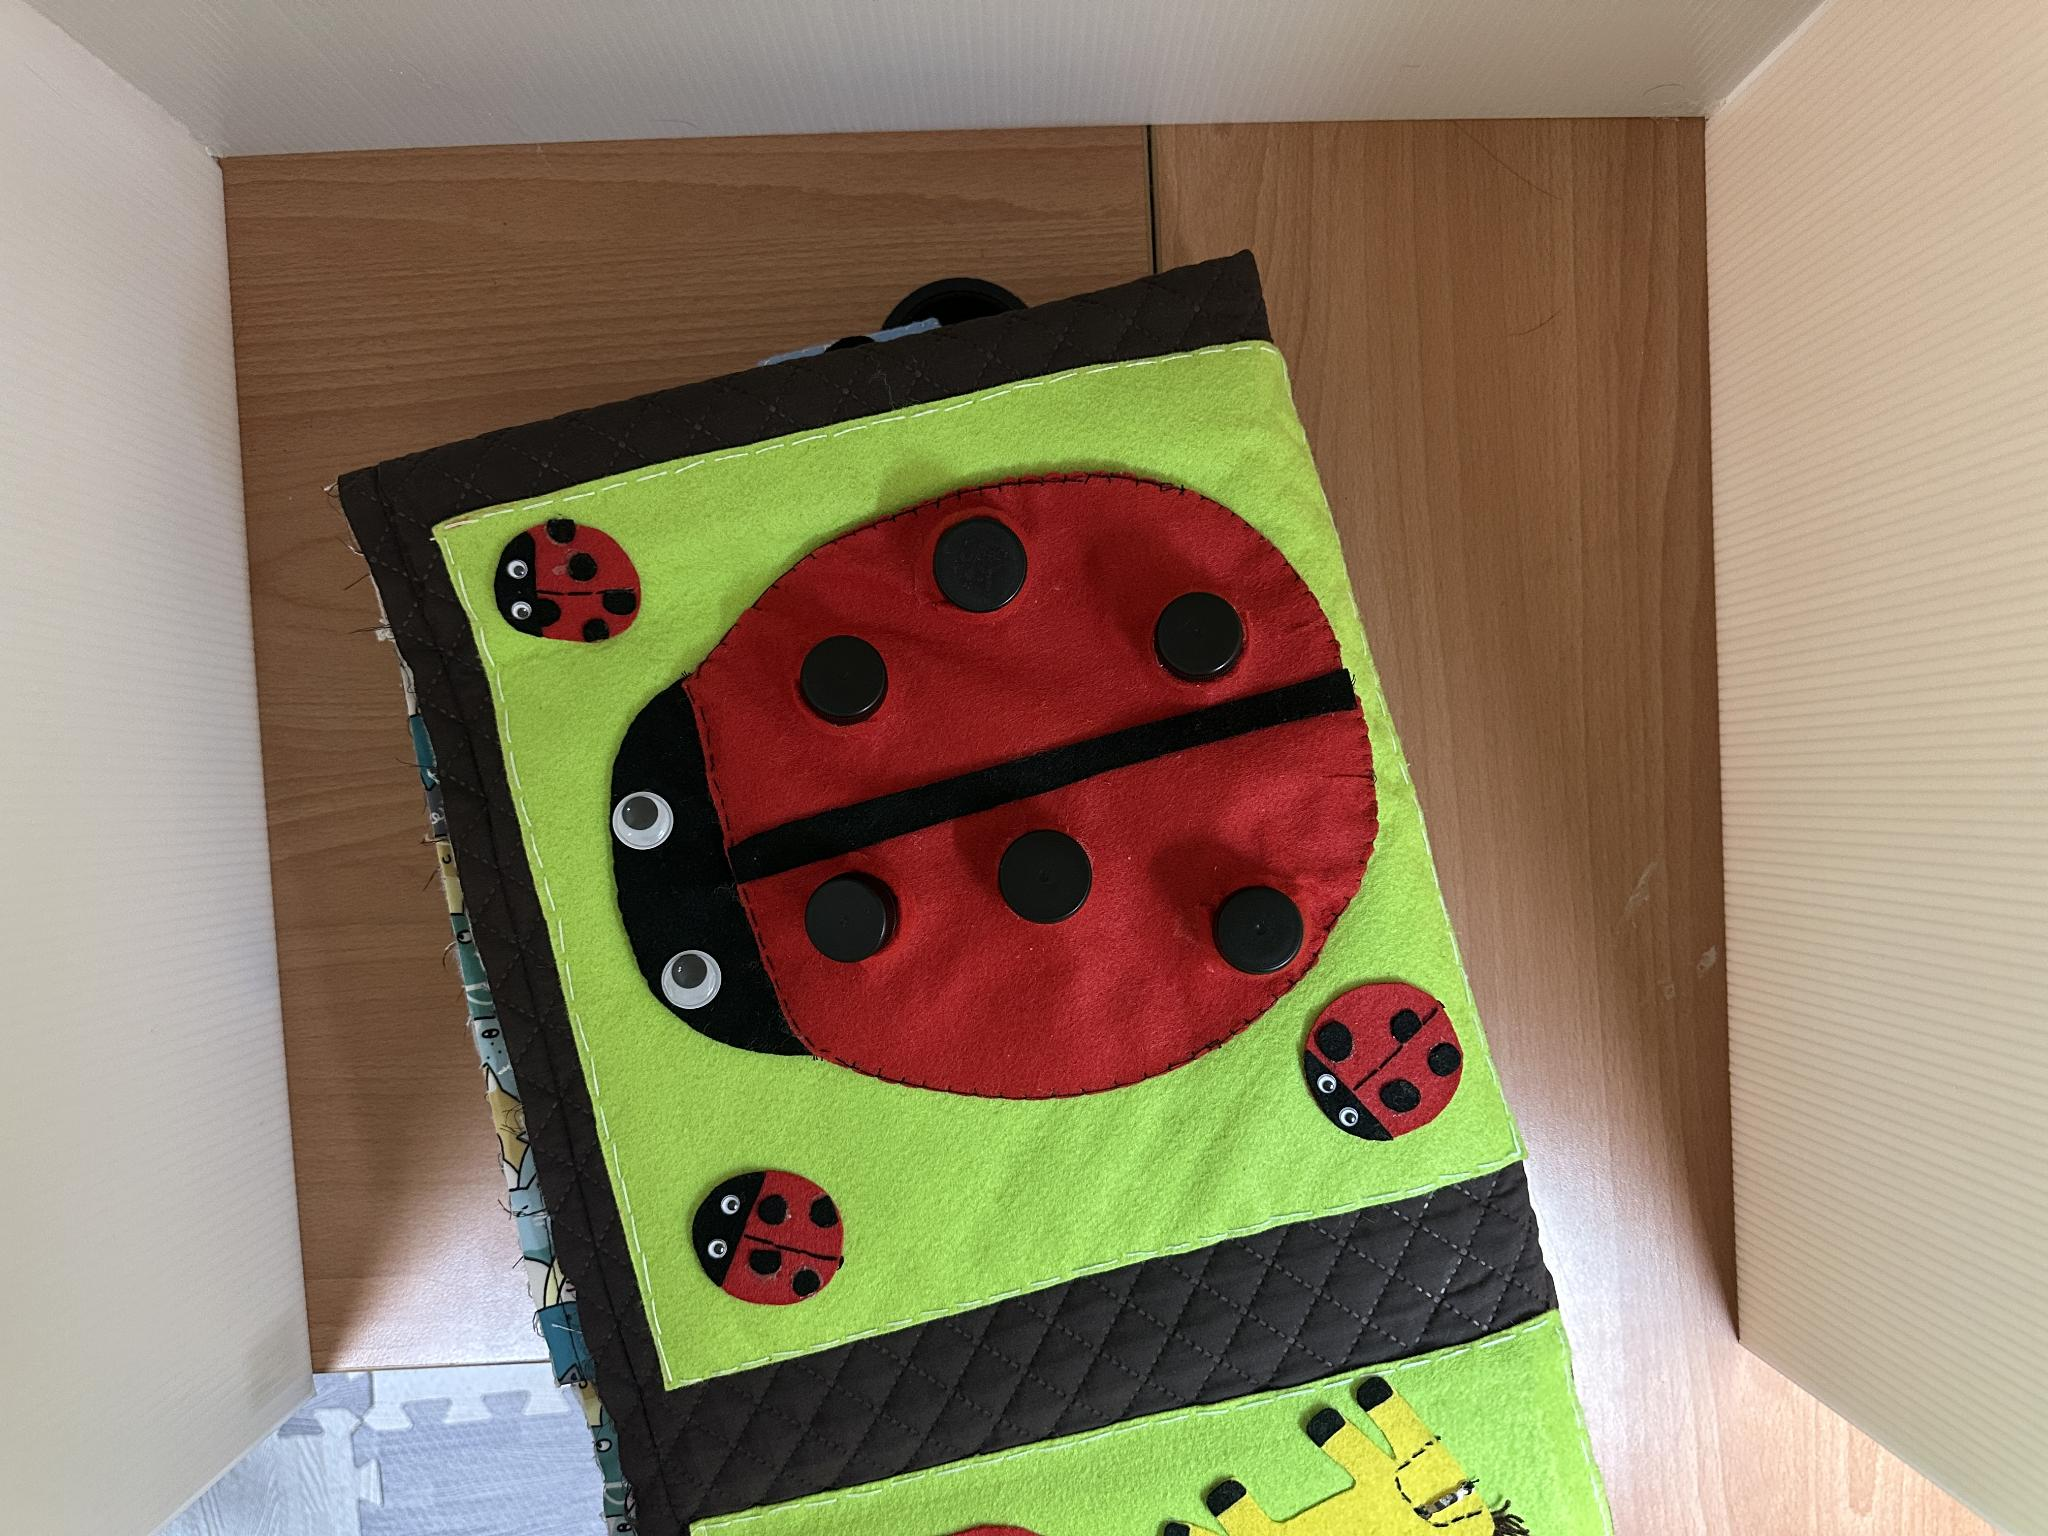cap_ok: (892, 494, 1074, 636), (755, 616, 916, 753), (971, 807, 1122, 945), (1184, 871, 1347, 992), (1129, 573, 1279, 702), (789, 852, 927, 975)
